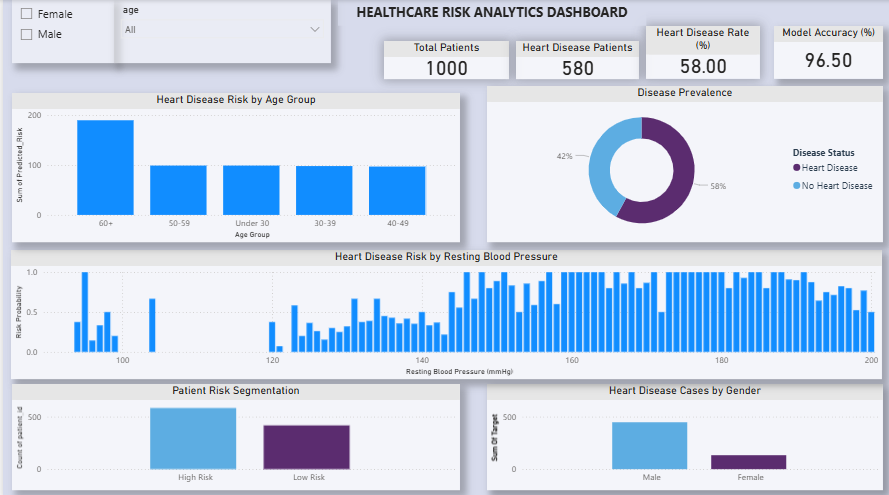

This screenshot's page, from the dashboard's own definition file:
{"tool":"powerbi","page":{"name":"Page 1","canvas":[1280,720],"ordinal":0},"visuals":[{"type":"card","title":"Total Patients","fields":{"Values":["CountNonNull(Healthcare_Risk_Predictions_Final.patient_id)"]},"box":[548.6,59,180,54.7],"z":0},{"type":"card","title":"Heart Disease Patients","fields":{"Values":["Sum(Healthcare_Risk_Predictions_Final.target)"]},"box":[738.7,59,177.1,54.7],"z":1000},{"type":"card","title":"Heart Disease Rate (%)","fields":{"Values":["Healthcare_Risk_Predictions_Final.Heart Disease %"]},"box":[925.9,37.4,164.2,76.3],"z":2000},{"type":"clusteredColumnChart","title":"Heart Disease Cases by Gender","fields":{"Category":["Healthcare_Risk_Predictions_Final.gender"],"Y":["Sum(Healthcare_Risk_Predictions_Final.target)"]},"box":[697,553,570.2,152.6],"z":3000},{"type":"clusteredColumnChart","title":"Heart Disease Risk by Resting Blood Pressure","fields":{"Category":["Healthcare_Risk_Predictions_Final.resting_bp"],"Y":["Avg(Healthcare_Risk_Predictions_Final.target)"]},"box":[11.5,360,1254.2,185.8],"z":4000},{"type":"card","title":"Model Accuracy (%)","fields":{"Values":["Healthcare_Risk_Predictions_Final.Model Accuracy %"]},"box":[1110.2,37.4,157,76.3],"z":5000},{"type":"donutChart","title":"Disease Prevalence","fields":{"Category":["Healthcare_Risk_Predictions_Final.Disease Status"],"Y":["CountNonNull(Healthcare_Risk_Predictions_Final.Disease Status)"]},"box":[697,123.8,570.2,224.6],"z":6000},{"type":"clusteredColumnChart","title":"Patient Risk Segmentation","fields":{"Category":["Healthcare_Risk_Predictions_Final.Risk Category"],"Y":["CountNonNull(Healthcare_Risk_Predictions_Final.patient_id)"]},"box":[13,553,645.1,152.6],"z":7000},{"type":"slicer","fields":{"Values":["Healthcare_Risk_Predictions_Final.gender_label"]},"box":[13,0,146.9,90.7],"z":8000},{"type":"slicer","fields":{"Values":["Healthcare_Risk_Predictions_Final.age"]},"box":[159.8,0,312.5,90.7],"z":9000},{"type":"clusteredColumnChart","title":"Heart Disease Risk by Age Group","fields":{"Category":["Healthcare_Risk_Predictions_Final.Age Group"],"Y":["Sum(Healthcare_Risk_Predictions_Final.Predicted_Risk)"]},"box":[13,133.9,645.1,214.6],"z":10000},{"type":"textbox","box":[482.4,0,443.5,37.4],"z":11000}]}

Visuals, with their boxes in screenshot pixels (x1, y1, x2, y2), scaled from the page's 1280x720 canvas onto the 889x495 screenshot:
"Total Patients" card: BBox(381, 41, 506, 78)
"Heart Disease Patients" card: BBox(513, 41, 636, 78)
"Heart Disease Rate (%)" card: BBox(643, 26, 757, 78)
"Heart Disease Cases by Gender" clusteredColumnChart: BBox(484, 380, 880, 485)
"Heart Disease Risk by Resting Blood Pressure" clusteredColumnChart: BBox(8, 248, 879, 375)
"Model Accuracy (%)" card: BBox(771, 26, 880, 78)
"Disease Prevalence" donutChart: BBox(484, 85, 880, 240)
"Patient Risk Segmentation" clusteredColumnChart: BBox(9, 380, 457, 485)
slicer - Healthcare_Risk_Predictions_Final.gender_label: BBox(9, 0, 111, 62)
slicer - Healthcare_Risk_Predictions_Final.age: BBox(111, 0, 328, 62)
"Heart Disease Risk by Age Group" clusteredColumnChart: BBox(9, 92, 457, 240)
textbox: BBox(335, 0, 643, 26)
